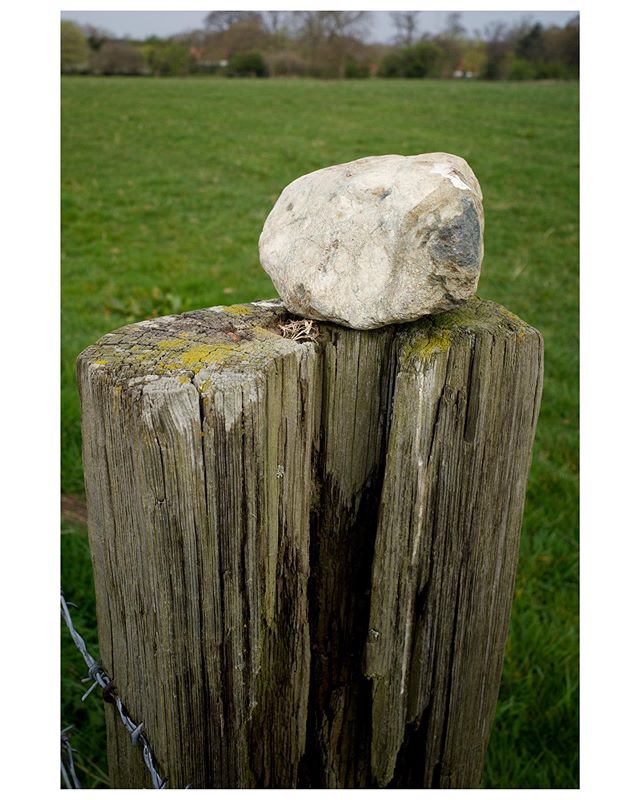grass: (61, 77, 584, 315)
rocks: (237, 143, 496, 328)
